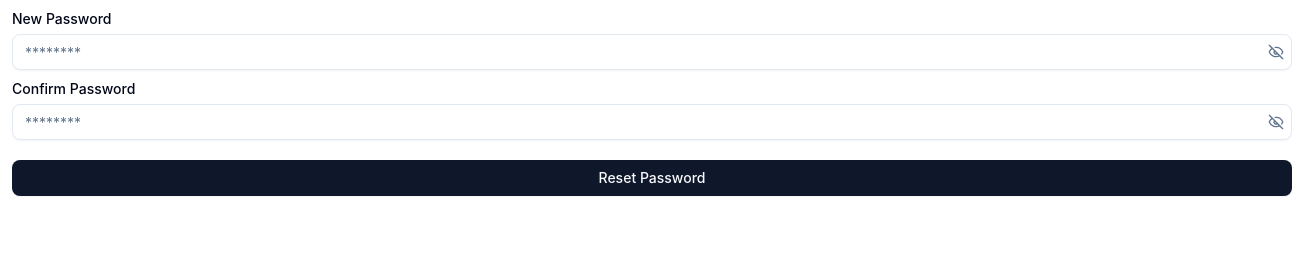
Test case: ResetPasswordForm › shows validation messages when submitting empty form
What coordinates should you click on to do the following:
click the button "Reset Password"
I would click on:
 (652, 178)
Its box is [12, 160, 1292, 196].
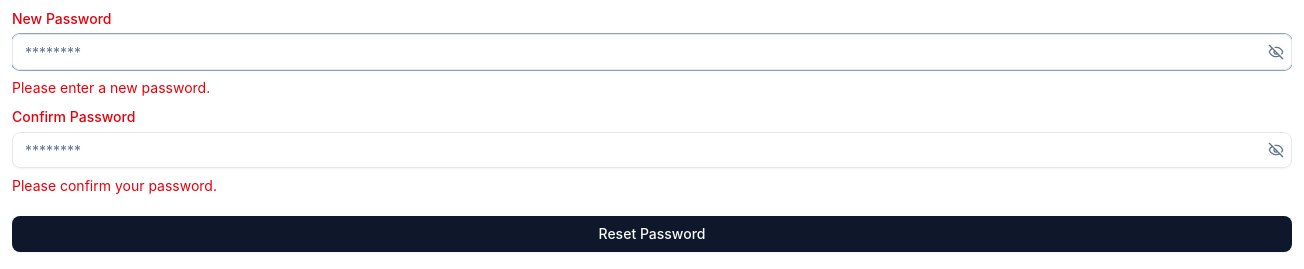
Now the text "Please enter a new password." is shown, box [12, 79, 210, 96]
Now the text "Please confirm your password." is shown, box [12, 177, 217, 194]
